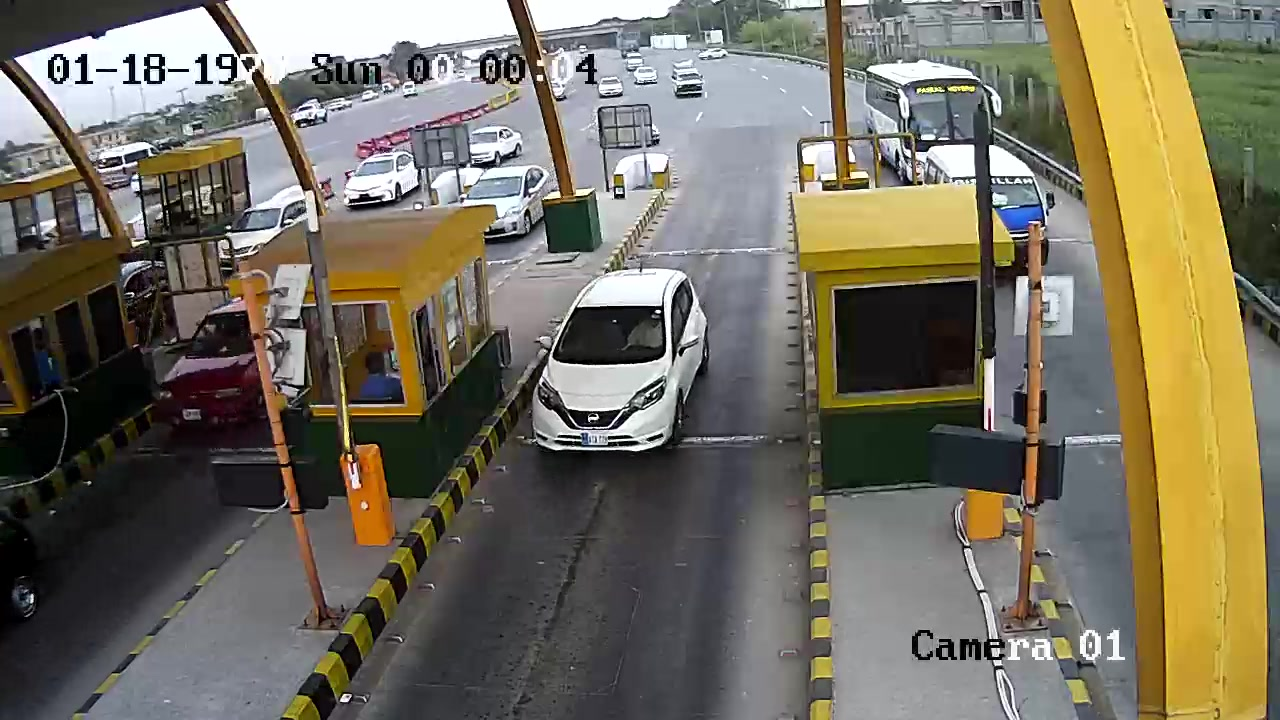F1: (523, 263, 718, 482)
